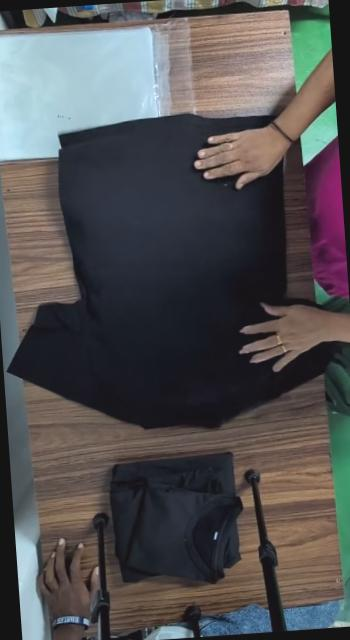new-garment: (9, 114, 329, 428)
